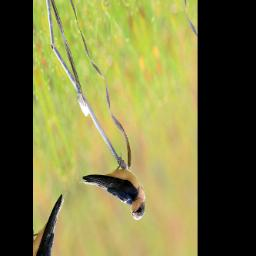Swallow: (76, 136, 152, 256)
